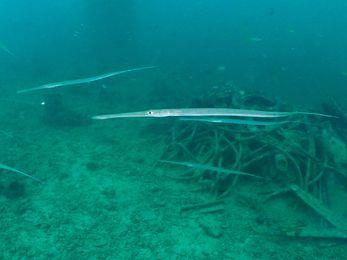Fistularia commersonii: (66, 95, 333, 142), (0, 52, 178, 96), (133, 147, 275, 190)
